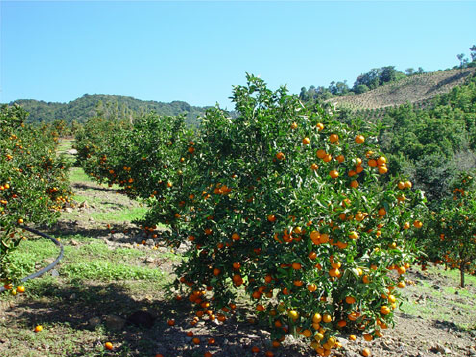orange: (316, 147, 326, 159), (288, 307, 298, 318), (348, 230, 359, 240), (337, 239, 348, 249), (328, 236, 338, 247), (319, 232, 329, 243), (355, 134, 365, 144), (322, 312, 332, 322), (301, 136, 312, 145), (309, 161, 320, 170), (266, 211, 275, 222), (306, 282, 317, 291), (310, 229, 319, 240), (323, 152, 332, 162), (336, 153, 345, 163), (329, 168, 338, 178), (264, 273, 273, 283), (338, 318, 347, 328), (345, 294, 355, 303), (327, 335, 336, 345), (311, 340, 320, 350), (282, 285, 291, 295), (368, 157, 377, 167), (414, 219, 424, 228), (362, 274, 371, 284), (311, 237, 321, 246), (329, 268, 339, 277), (363, 332, 373, 341), (378, 319, 387, 329), (313, 311, 321, 322), (290, 121, 299, 130), (276, 151, 285, 160), (349, 179, 358, 188), (212, 266, 221, 275), (292, 260, 301, 269), (369, 261, 378, 270), (332, 260, 341, 269), (336, 270, 345, 279), (380, 305, 389, 314), (355, 309, 363, 319), (312, 320, 320, 330), (376, 156, 386, 164), (396, 198, 406, 206), (354, 266, 362, 276), (397, 278, 405, 288), (354, 156, 362, 165), (355, 164, 363, 173), (232, 231, 240, 240), (232, 273, 241, 281), (234, 278, 243, 286), (252, 289, 260, 298), (294, 277, 302, 286), (280, 323, 288, 332), (303, 328, 311, 337), (284, 260, 293, 268), (252, 245, 261, 253), (365, 148, 373, 157), (397, 180, 405, 189), (404, 179, 412, 188), (377, 206, 385, 215), (388, 240, 397, 248), (328, 253, 336, 262), (387, 294, 395, 303), (380, 289, 388, 298), (292, 233, 301, 241), (225, 238, 232, 248), (349, 310, 356, 320), (256, 303, 264, 311), (295, 326, 303, 334), (318, 326, 326, 334), (315, 332, 323, 340), (318, 294, 326, 302), (278, 261, 286, 269), (398, 265, 406, 273), (293, 225, 301, 233), (355, 212, 363, 220), (329, 133, 338, 140), (347, 169, 356, 176), (308, 251, 317, 258), (323, 341, 330, 350), (375, 315, 382, 324), (287, 214, 296, 221), (272, 232, 279, 241), (342, 197, 349, 206), (315, 122, 323, 129), (176, 168, 184, 175), (204, 227, 212, 234), (274, 319, 281, 327), (278, 333, 285, 341), (272, 339, 279, 347), (325, 348, 332, 356), (397, 193, 405, 200), (402, 220, 409, 228), (389, 301, 396, 309), (387, 282, 394, 290), (284, 235, 292, 242), (318, 346, 324, 355), (188, 145, 195, 152), (216, 242, 223, 249), (233, 260, 240, 267), (230, 172, 237, 179), (276, 237, 283, 244), (284, 228, 291, 235), (300, 227, 307, 234), (377, 221, 384, 228), (221, 184, 228, 191), (195, 243, 203, 249), (259, 284, 265, 292), (306, 218, 312, 226), (339, 212, 345, 220), (166, 181, 173, 187), (187, 234, 194, 240), (375, 229, 381, 236), (179, 156, 185, 162), (207, 213, 213, 219), (188, 193, 194, 199), (366, 227, 372, 233), (188, 140, 195, 145)
